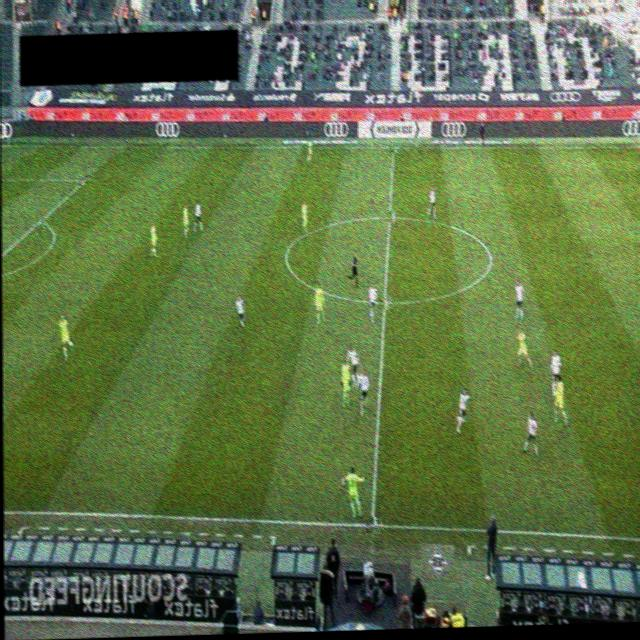bigarea_top_inner: (79, 173, 91, 186)
corner: (1, 138, 10, 151)
halfcircle_bottom: (378, 294, 392, 309)
halfcircle_top: (384, 210, 396, 222)
midline_bottom_intersection: (362, 516, 383, 533)
midline_top_intersection: (389, 141, 400, 153)
top_arc_area_intersection: (34, 213, 48, 229)
